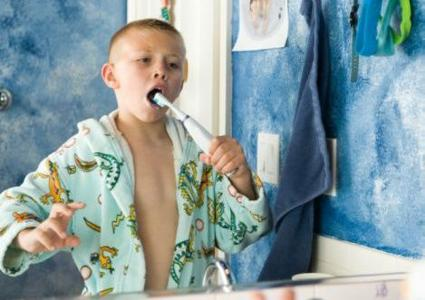person: (1, 19, 272, 297)
